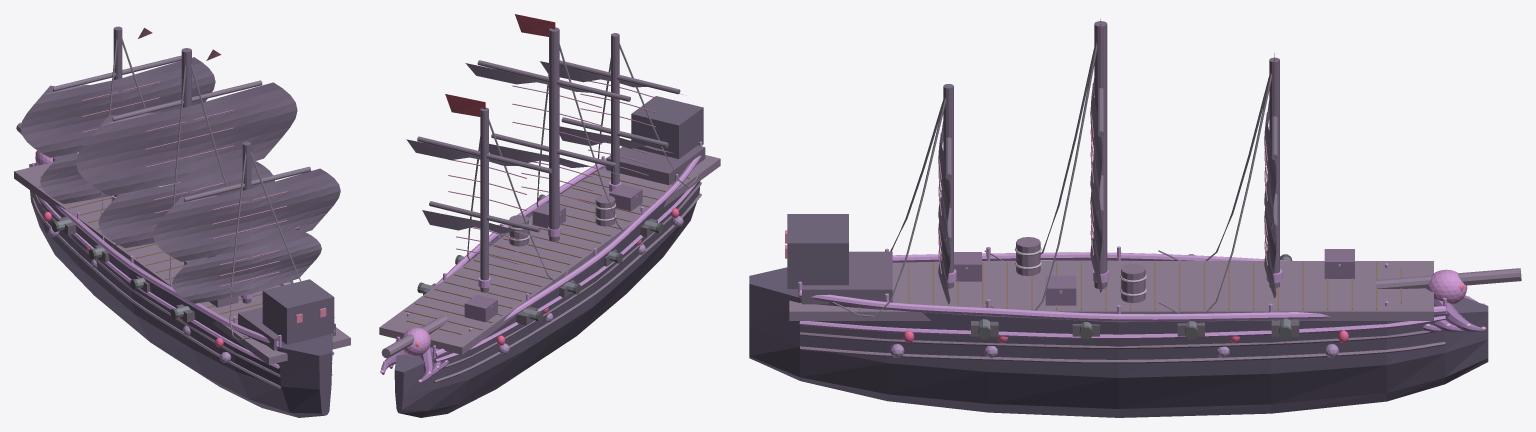
File: scar_karakatitsa.glb
The picture shows the model from 3 angles, left to right: view 1: azimuth 30°, elevation 25°; view 2: azimuth 150°, elevation 25°; view 3: azimuth 270°, elevation 25°; orthographic projection. The views are drawn at different scales.
Parts seen in each view (by area): view 1: Karakatitsa_Sail_2_1, Karakatitsa_CarvedHull, Karakatitsa_Sail_3_1, Karakatitsa_Sail_1_1, Karakatitsa_Sail_3_2, Karakatitsa_Deck, Karakatitsa_Sail_2_2, Karakatitsa_CaptainCabin, Karakatitsa_Sail_1_2, Karakatitsa_Gunwale_-1, Karakatitsa_Hull_Strake_-1_0.2, Karakatitsa_Hull_Strake_-1_0.6 (+12 smaller); view 2: Karakatitsa_Deck, Karakatitsa_CarvedHull, Karakatitsa_CaptainCabin, Karakatitsa_Mast_2, Karakatitsa_Quarterdeck, Karakatitsa_Gunwale_-1, Karakatitsa_Mast_1, Karakatitsa_Mast_3, Karakatitsa_Hull_Strake_-1_0.2, Karakatitsa_Hull_Strake_-1_0.6, Karakatitsa_Gunwale_1, Karakatitsa_Sail_1_2 (+24 smaller); view 3: Karakatitsa_CarvedHull, Karakatitsa_Deck, Karakatitsa_CaptainCabin, Karakatitsa_Gunwale_1, Karakatitsa_Hull_Strake_1_0.6, Karakatitsa_Quarterdeck, Karakatitsa_Hull_Strake_1_0.2, Karakatitsa_Hull_Strake_1_0.42, Karakatitsa_Mast_2, Karakatitsa_Gunwale_-1, Karakatitsa_Bowsprit, Karakatitsa_Mast_1 (+13 smaller).
Part boxes in pixels (<box>): Karakatitsa_Sail_2_1: <box>76,82,297,195</box>; Karakatitsa_CarvedHull: <box>29,163,332,417</box>; Karakatitsa_Sail_3_1: <box>153,168,340,261</box>; Karakatitsa_Sail_1_1: <box>20,57,215,157</box>; Karakatitsa_Sail_3_2: <box>172,232,321,303</box>; Karakatitsa_Deck: <box>14,164,350,364</box>; Karakatitsa_Sail_2_2: <box>98,161,274,248</box>; Karakatitsa_CaptainCabin: <box>262,279,334,344</box>; Karakatitsa_Sail_1_2: <box>40,153,118,203</box>; Karakatitsa_Gunwale_-1: <box>55,205,278,346</box>; Karakatitsa_Hull_Strake_-1_0.2: <box>32,197,280,388</box>; Karakatitsa_Hull_Strake_-1_0.6: <box>38,196,279,368</box>; Karakatitsa_Deck: <box>379,155,720,354</box>; Karakatitsa_CarvedHull: <box>394,166,700,417</box>; Karakatitsa_CaptainCabin: <box>631,96,703,158</box>; Karakatitsa_Mast_2: <box>549,27,559,241</box>; Karakatitsa_Quarterdeck: <box>606,140,705,185</box>; Karakatitsa_Gunwale_-1: <box>435,155,701,357</box>; Karakatitsa_Mast_1: <box>480,107,488,292</box>; Karakatitsa_Mast_3: <box>611,33,619,184</box>; Karakatitsa_Hull_Strake_-1_0.2: <box>434,193,701,382</box>; Karakatitsa_Hull_Strake_-1_0.6: <box>435,183,696,362</box>; Karakatitsa_Gunwale_1: <box>395,157,607,341</box>; Karakatitsa_Sail_1_2: <box>422,210,545,238</box>; Karakatitsa_CarvedHull: <box>749,260,1488,417</box>; Karakatitsa_Deck: <box>789,261,1433,320</box>; Karakatitsa_CaptainCabin: <box>787,214,848,288</box>; Karakatitsa_Gunwale_1: <box>799,290,1446,321</box>; Karakatitsa_Hull_Strake_1_0.6: <box>799,315,1445,339</box>; Karakatitsa_Quarterdeck: <box>802,251,892,304</box>; Karakatitsa_Hull_Strake_1_0.2: <box>800,341,1445,363</box>; Karakatitsa_Hull_Strake_1_0.42: <box>800,330,1444,348</box>; Karakatitsa_Mast_2: <box>1094,21,1107,288</box>; Karakatitsa_Gunwale_-1: <box>892,252,1288,262</box>; Karakatitsa_Bowsprit: <box>1375,268,1521,288</box>; Karakatitsa_Mast_1: <box>1269,57,1279,288</box>.
Bounding box in the file's own units: 4.44 × 6.03 × 10.66.
